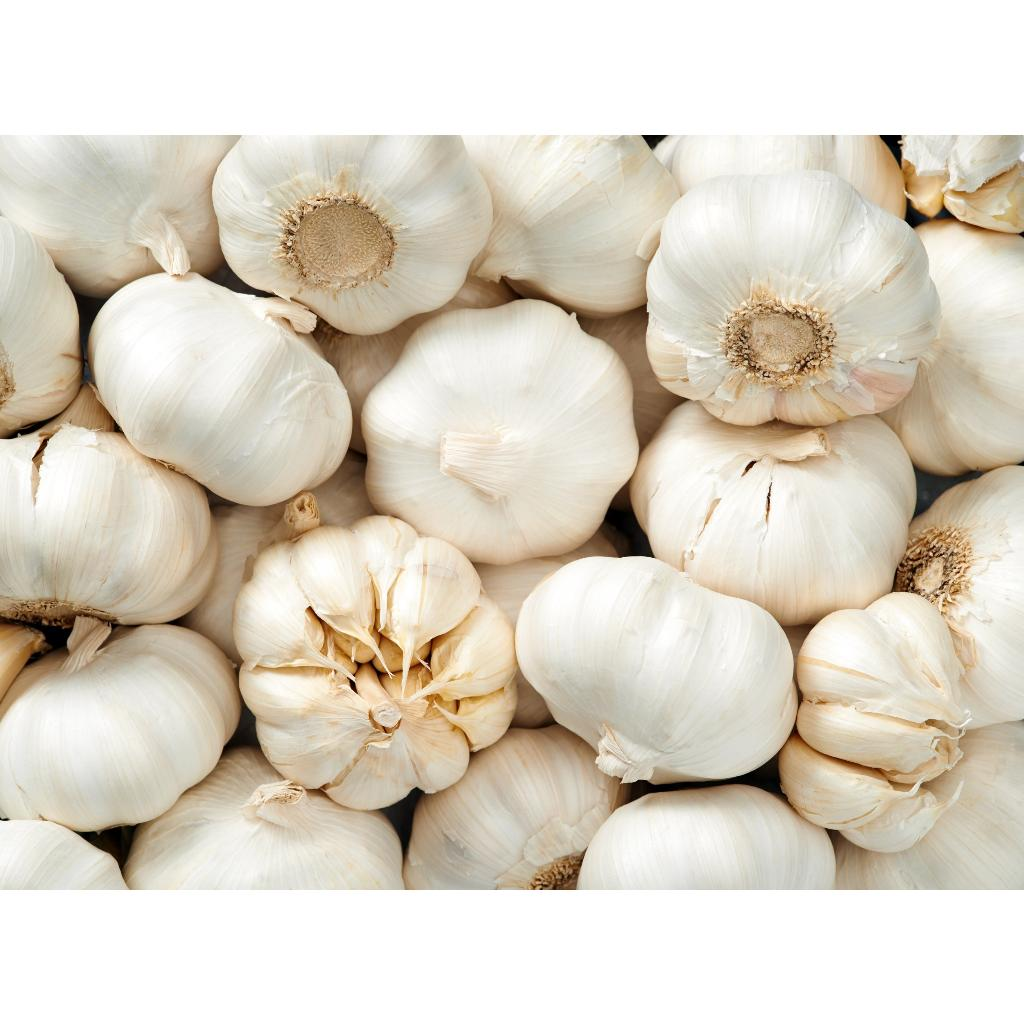garlic: (234, 516, 514, 808), (646, 170, 939, 424), (361, 299, 638, 563), (630, 400, 916, 624), (515, 556, 797, 782), (88, 272, 351, 504), (212, 134, 492, 334), (0, 626, 240, 832), (780, 592, 970, 852), (0, 424, 216, 626), (124, 748, 404, 890), (462, 134, 680, 316), (404, 724, 630, 890), (894, 466, 1024, 728)
